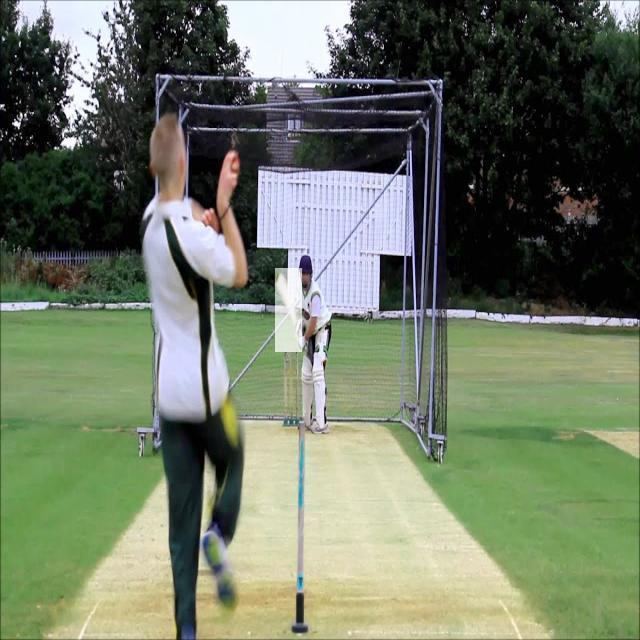bat: (275, 265, 306, 355)
